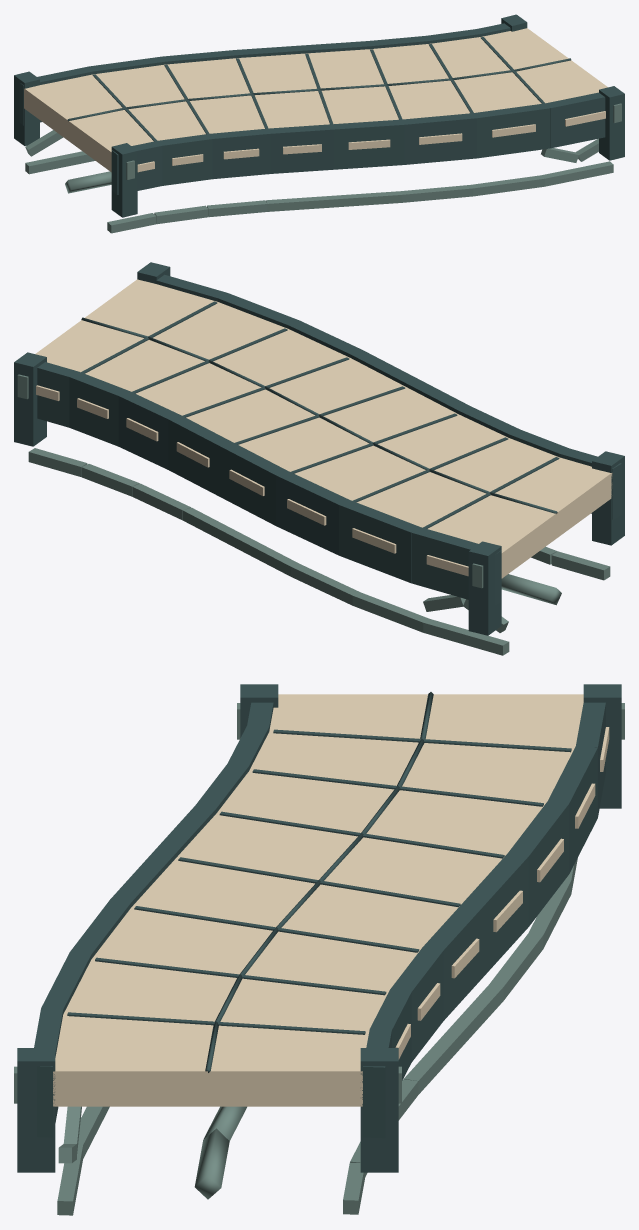
The model's file is Sbend_R2_lab2.glb.
3 views of the same model, one above another, from view 1: azimuth 30°, elevation 25°; view 2: azimuth 150°, elevation 25°; view 3: azimuth 270°, elevation 25° (orthographic). The views are drawn at different scales.
Visible parts, largest first — view 1: Sbend_R2; view 2: Sbend_R2; view 3: Sbend_R2.
Part boxes in pixels (x1,y1,x2,y2): Sbend_R2: [14, 14, 624, 233]; Sbend_R2: [14, 262, 624, 655]; Sbend_R2: [14, 684, 624, 1215].
Size of the model in its own units: 8.05 by 1.52 by 5.48.
